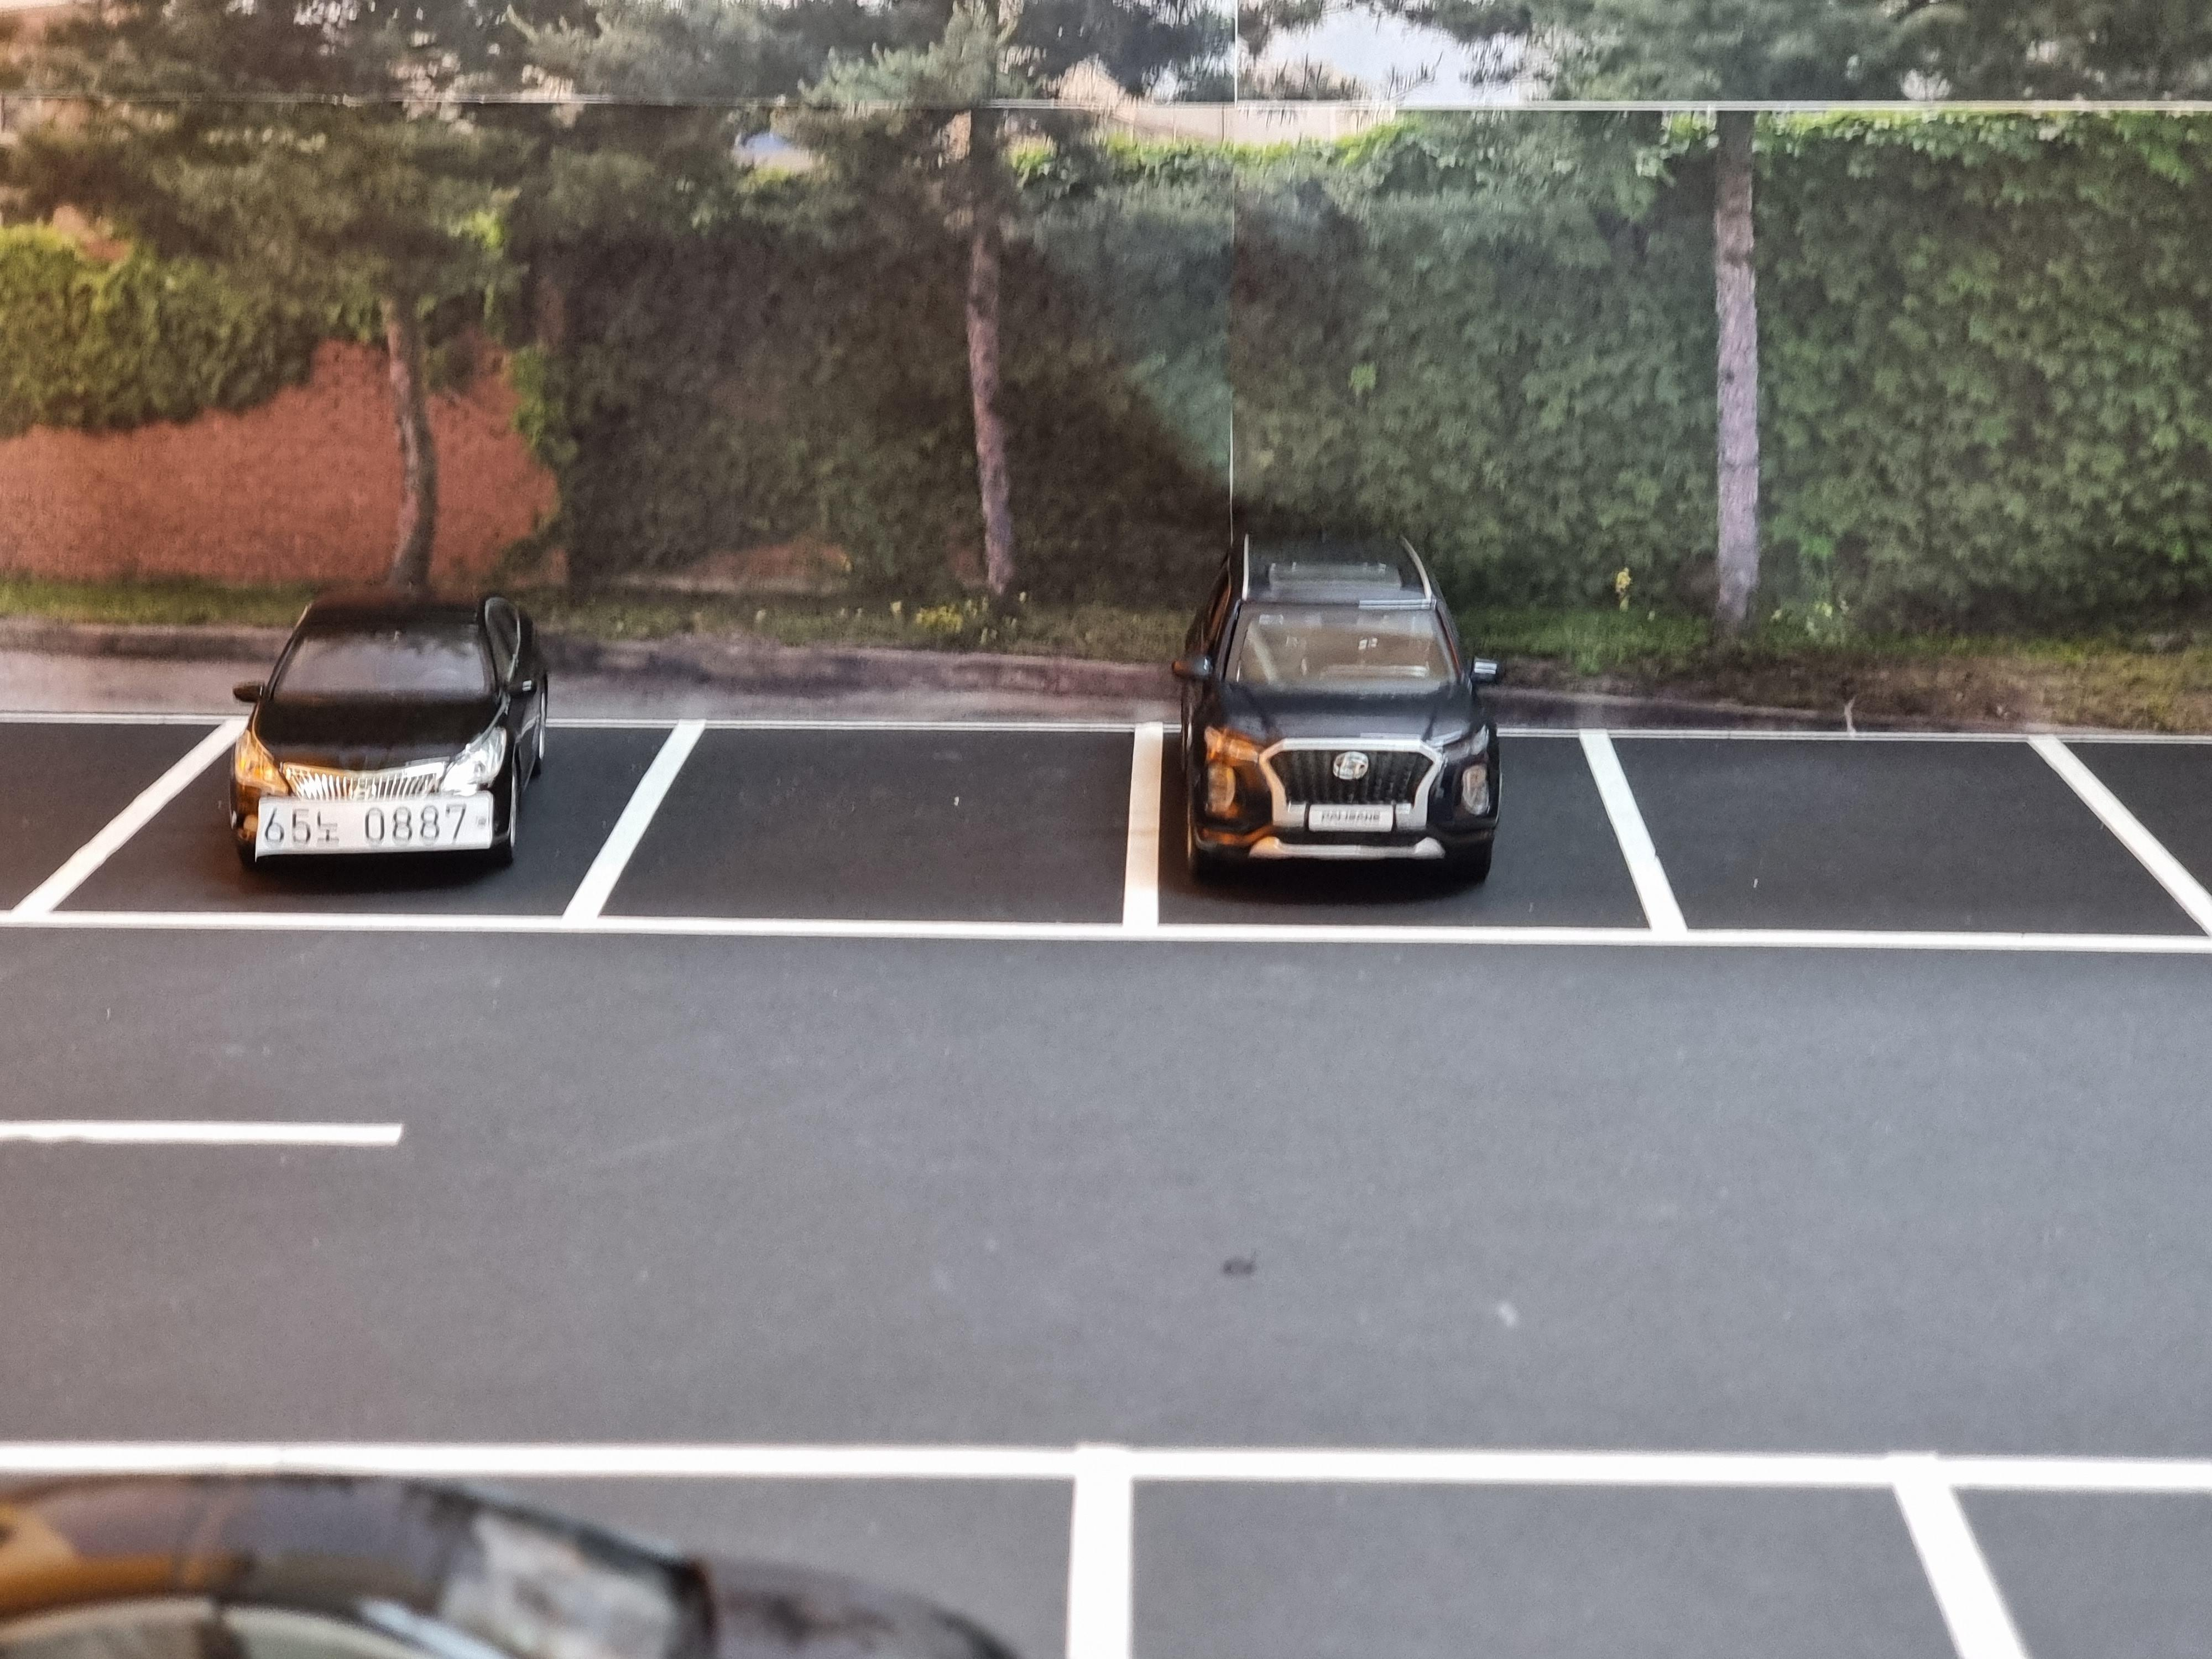empty: (1598, 733, 2212, 962), (572, 713, 1167, 924)
occupied: (1172, 517, 1515, 901), (232, 567, 547, 868)
